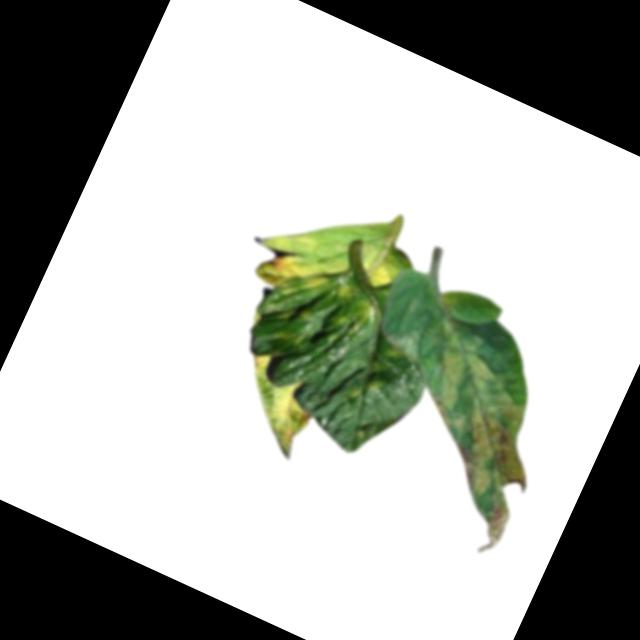Leaf_Mold: (364, 313, 580, 553), (219, 348, 329, 463), (240, 213, 341, 304), (349, 233, 410, 297)
